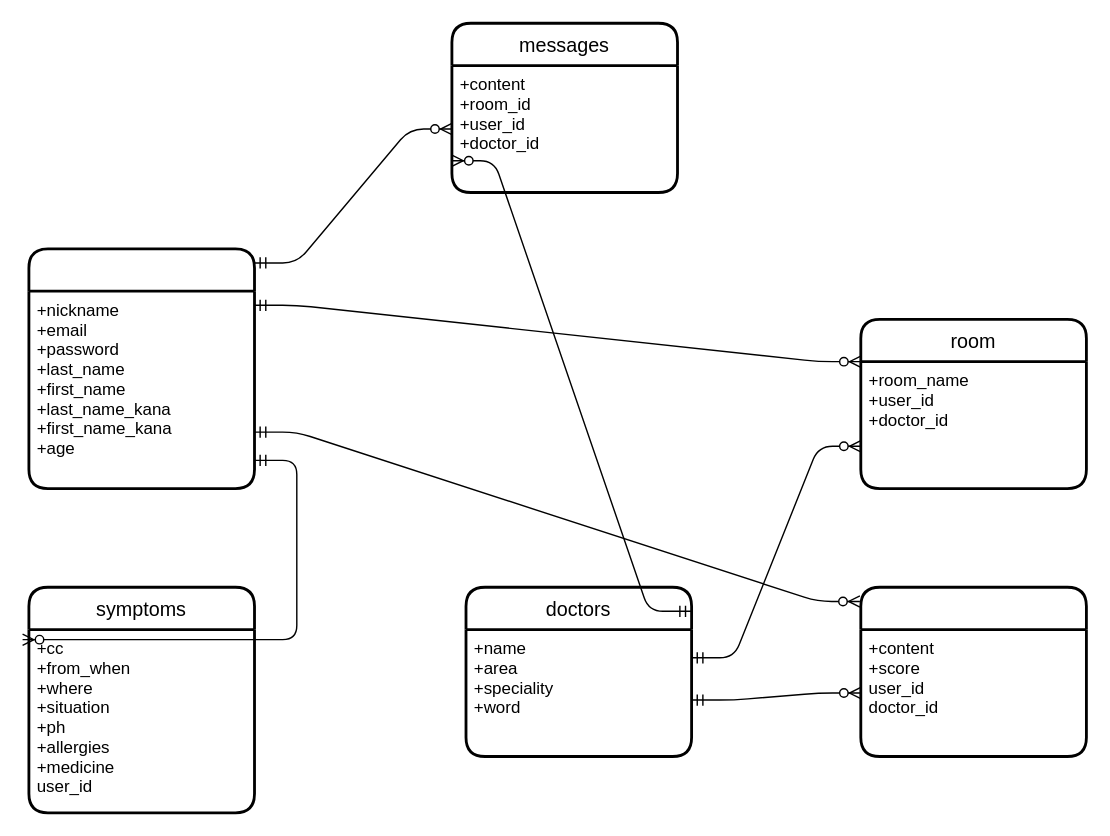
This 1110x836 diagram has some shape labels left out. Here are the shapes that lost their labels. From the top down, the box of each, then its label:
(27, 247, 255, 489): users
(859, 585, 1087, 757): ratings
